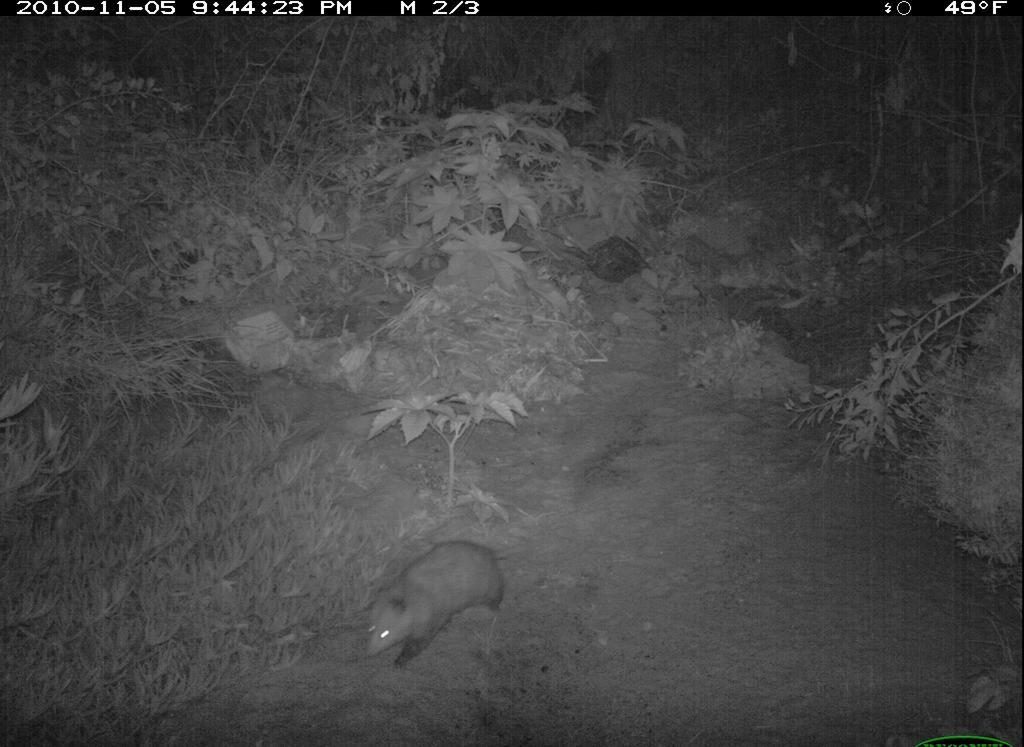opossum: (356, 532, 545, 675)
